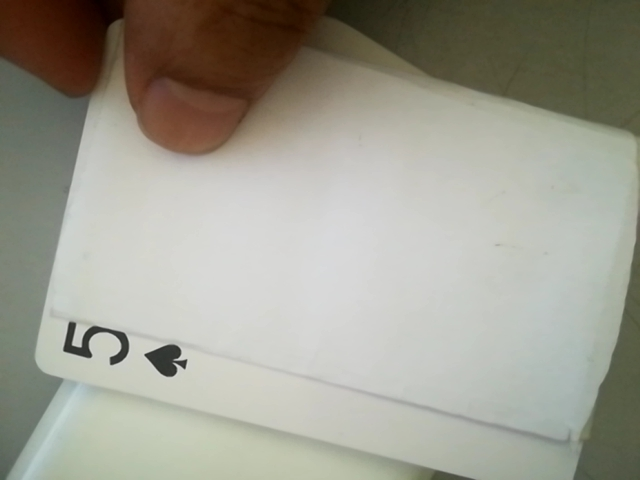ht 5: (46, 314, 194, 393)
